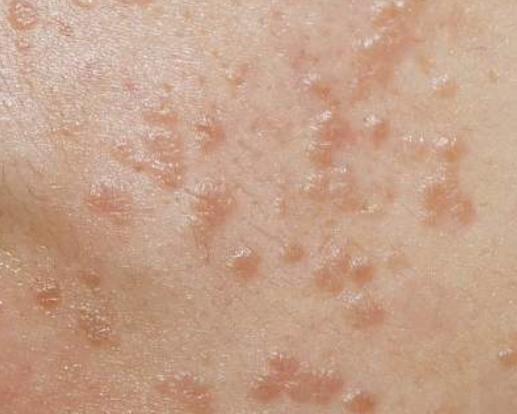flat_wart: (298, 104, 397, 223), (112, 97, 212, 209), (400, 123, 486, 238), (242, 346, 384, 414), (309, 237, 397, 335), (339, 5, 440, 89), (180, 78, 250, 165), (183, 173, 246, 252), (150, 365, 234, 414), (1, 1, 62, 67), (214, 230, 279, 288), (80, 174, 142, 233), (74, 303, 128, 356), (269, 227, 316, 273), (487, 337, 517, 373)
